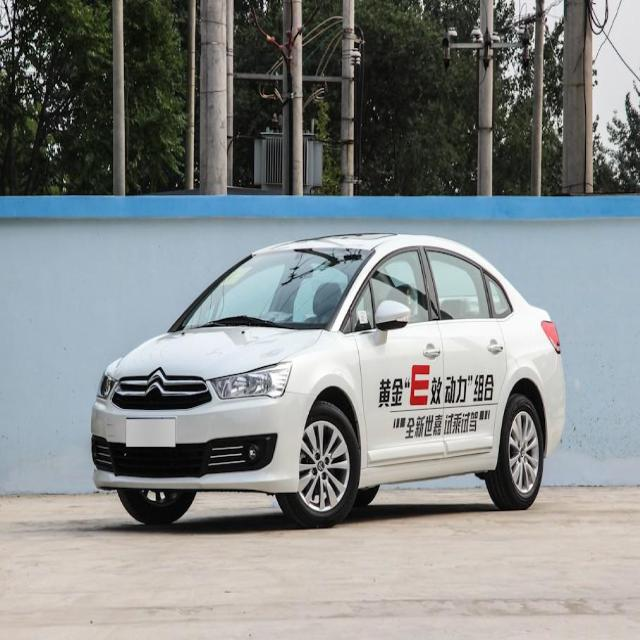back_left_side_light: (540, 319, 562, 357)
door: (425, 246, 515, 472)
front_bumper: (90, 399, 312, 494)
front_glass: (168, 242, 376, 334)
front_left_side_door: (350, 235, 446, 476)
front_left_side_light: (208, 359, 292, 401)
front_left_side_mirror: (373, 298, 412, 340)
front_right_side_light: (95, 367, 124, 400)
wheel: (280, 396, 367, 534), (490, 379, 544, 511)
